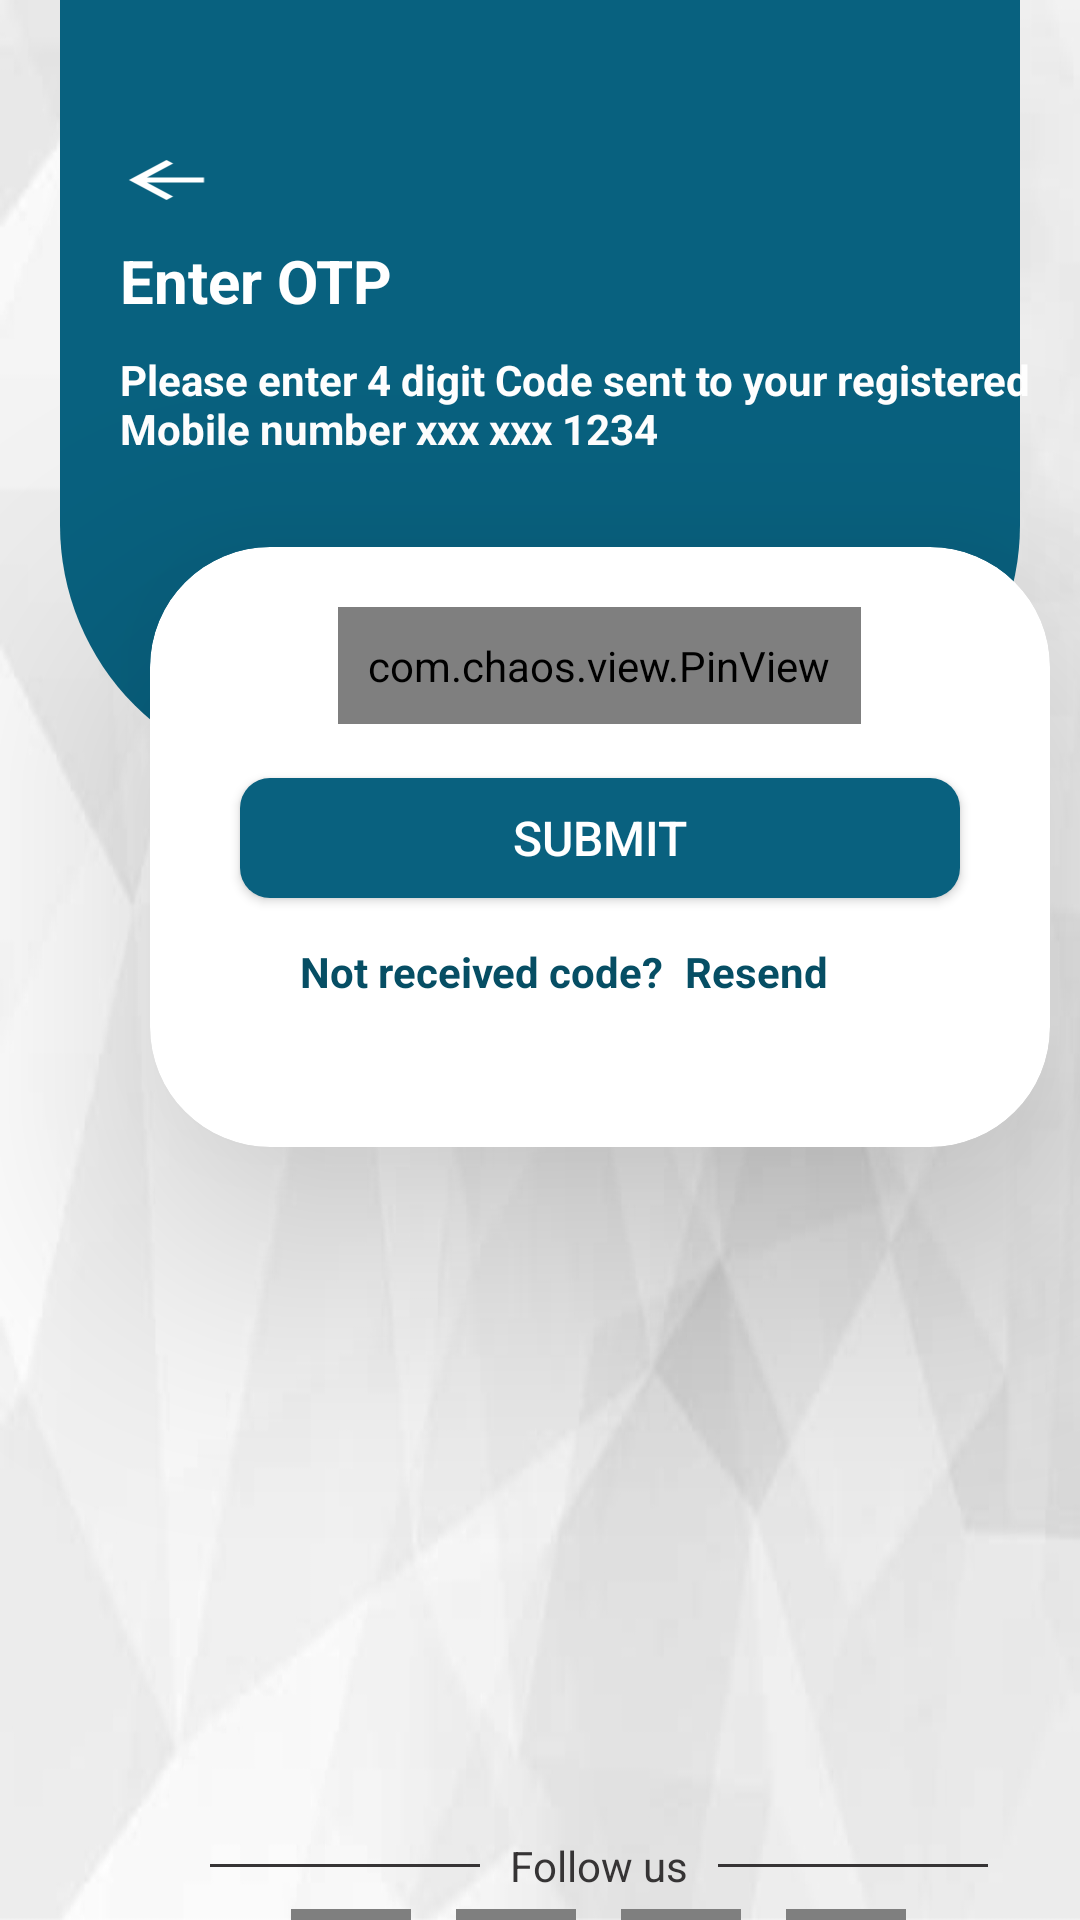

Point at icon controls on the screen. Image size 1080 × 1920, points as point (x, y).
arrow back: point (167, 180)
